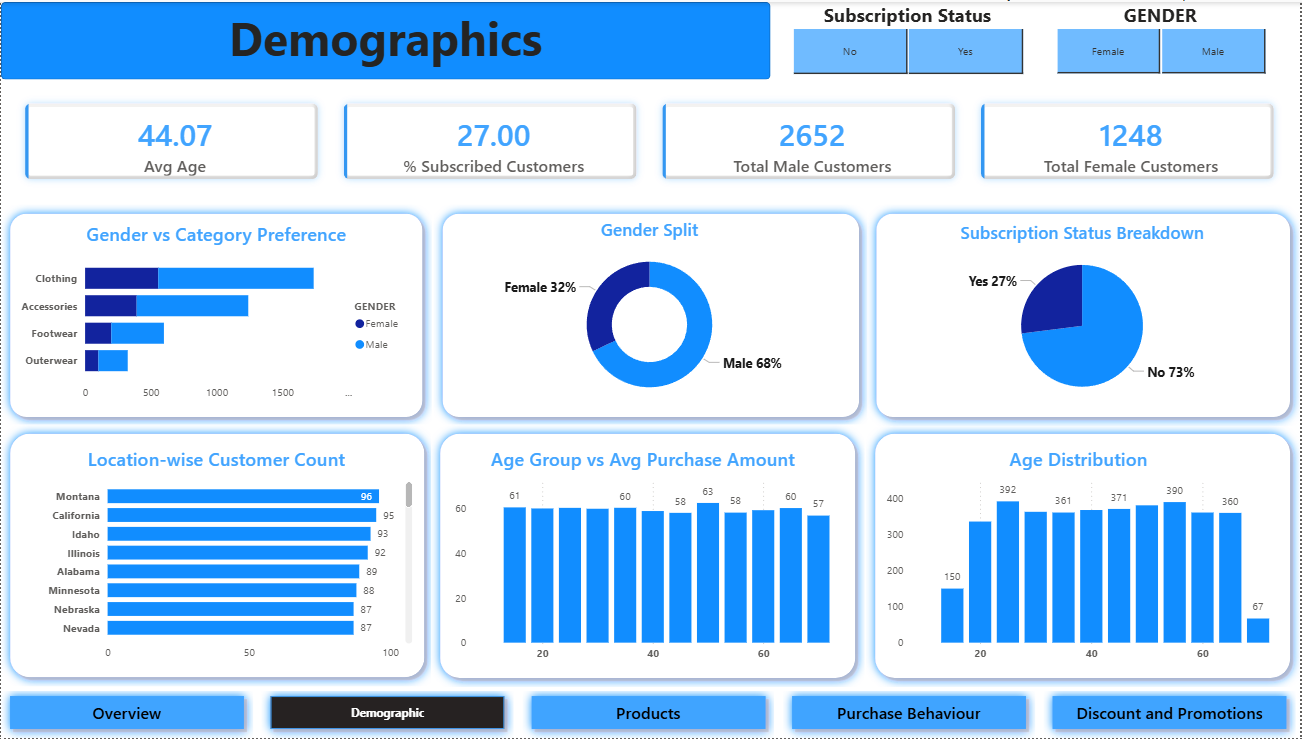

Layout of this report page (visuals, bound fields, positions):
{"tool":"powerbi","page":{"name":"Demographic","canvas":[1500,850],"ordinal":1},"visuals":[{"type":"shape","box":[0,233.2,497.3,256],"z":0},{"type":"shape","box":[0,0,888.6,89.7],"z":1000},{"type":"shape","box":[498.9,233.2,502.2,256],"z":2000},{"type":"shape","box":[0,488.3,499.5,302.5],"z":3000},{"type":"shape","box":[497.3,487.5,500.5,303.3],"z":4000},{"type":"shape","box":[999.5,487.5,500.5,303.3],"z":5000},{"type":"shape","box":[1001.1,233.2,498.9,256],"z":6000},{"type":"cardVisual","fields":{"Data":["customer.Avg Age","customer.% Subscribed_Customers","customer.Total Male Customers","customer.Total Female Customers"]},"box":[0,90.1,1500,143.5],"z":7000},{"type":"columnChart","title":"Age Distribution","fields":{"Y":["CountNonNull(customer.age)"],"Category":["customer.age (bins)"]},"box":[1017.4,512,453.3,257.6],"z":8000},{"type":"donutChart","title":"Gender Split","fields":{"Category":["customer.gender"],"Y":["customer.Total_Customers"]},"box":[520.6,247.7,455.9,222.3],"z":9000},{"type":"barChart","title":"Location-wise Customer Count","fields":{"Category":["customer.location"],"Y":["customer.Total_Customers"]},"box":[16.9,512.2,462.9,257.5],"z":10000},{"type":"pieChart","title":"Subscription Status Breakdown","fields":{"Category":["customer.subscription_status"],"Y":["customer.Total_Customers"]},"box":[1025.8,253.3,444.7,216.7],"z":11000},{"type":"clusteredColumnChart","title":"Age Group vs Avg Purchase Amount ","fields":{"Category":["customer.age (bins)"],"Y":["customer.Avg_Purchase_Amount"]},"box":[520.1,512,443.5,257.6],"z":12000},{"type":"barChart","title":"Gender vs Category Preference","fields":{"Category":["customer.category"],"Y":["customer.Total_Customers"],"Series":["customer.gender"]},"box":[16.9,253.3,462.9,216.7],"z":13000},{"type":"textbox","box":[0,0,888.6,89.7],"z":14000},{"type":"slicer","title":"GENDER","fields":{"Values":["customer.gender"]},"box":[1193.5,0,290.2,89.7],"z":15000},{"type":"slicer","title":"Subscription Status","fields":{"Values":["customer.subscription_status"]},"box":[889.3,0,315.2,90.1],"z":16000},{"type":"pageNavigator","box":[0,791.1,1499.9,59.2],"z":17000}]}

Visuals, with their boxes in screenshot pixels (x1, y1, x2, y2), scaled from the page's 1500x850 canvas onto the 1302x739 screenshot:
shape: [0, 203, 432, 425]
shape: [0, 0, 771, 78]
shape: [433, 203, 869, 425]
shape: [0, 425, 434, 688]
shape: [432, 424, 866, 688]
shape: [868, 424, 1301, 688]
shape: [869, 203, 1301, 425]
cardVisual - customer.Avg Age x customer.% Subscribed_Customers: [0, 78, 1301, 203]
"Age Distribution" columnChart: [883, 445, 1277, 669]
"Gender Split" donutChart: [452, 215, 848, 409]
"Location-wise Customer Count" barChart: [15, 445, 416, 669]
"Subscription Status Breakdown" pieChart: [890, 220, 1276, 409]
"Age Group vs Avg Purchase Amount " clusteredColumnChart: [451, 445, 836, 669]
"Gender vs Category Preference" barChart: [15, 220, 416, 409]
textbox: [0, 0, 771, 78]
"GENDER" slicer: [1036, 0, 1288, 78]
"Subscription Status" slicer: [772, 0, 1046, 78]
pageNavigator: [0, 688, 1301, 738]
